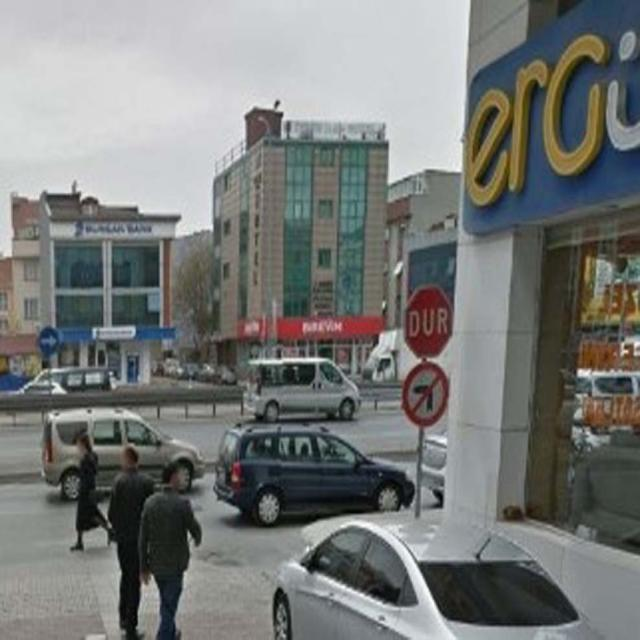dur: (403, 283, 452, 358)
sag: (37, 326, 61, 357)
soladonulmez: (403, 362, 448, 426)
